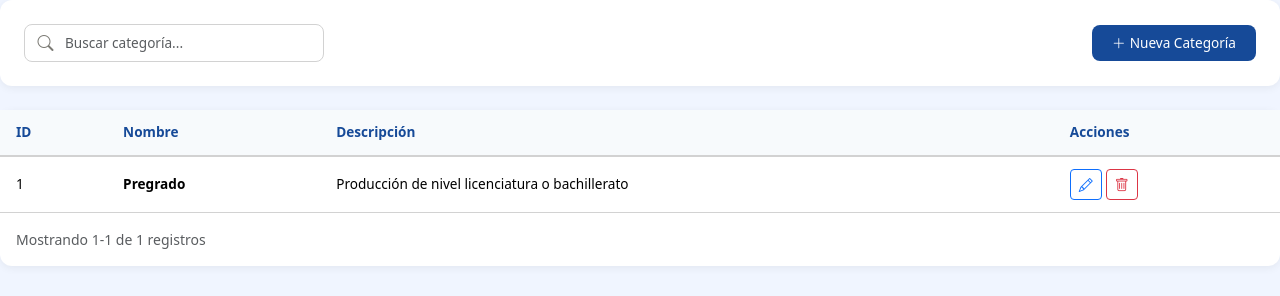
Scenario: CatalogMaintenance › lists items from the backend and filters by search
This screenshot has width=1280, height=296.
Expected: the text "Pregrado" is shown, [123,174,185,193]
In the field with placeholder "Buscar categoría...": (174, 43) [24,24,324,62], type "zzz-no-existe"
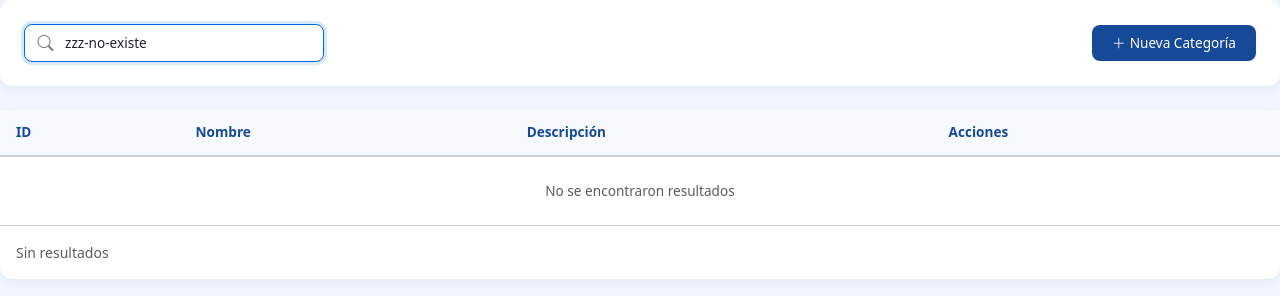
Now the text "No se encontraron resultados" is shown, box [0,156,1279,226]
